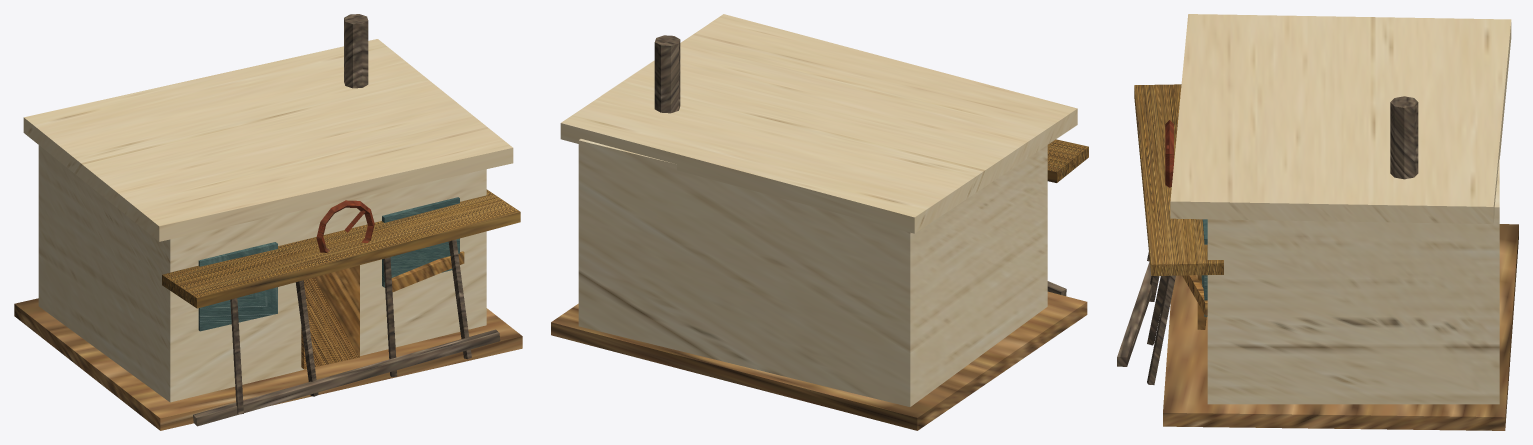
Rendered from abandoned-catalog-office.glb.
The picture shows the model from 3 angles, left to right: view 1: azimuth 30°, elevation 25°; view 2: azimuth 150°, elevation 25°; view 3: azimuth 270°, elevation 25°; orthographic projection. The views are drawn at different scales.
Parts seen in each view (by area): view 1: abandoned-catalog-office; view 2: abandoned-catalog-office; view 3: abandoned-catalog-office.
Boxes of the visible parts, left/top/right/bottom form: abandoned-catalog-office: left=14, top=14, right=522, bottom=430; abandoned-catalog-office: left=551, top=14, right=1088, bottom=430; abandoned-catalog-office: left=1117, top=14, right=1518, bottom=430.
Size of the model in its own units: 7.36 by 5.1 by 6.34.
1 material, 1 textured.
